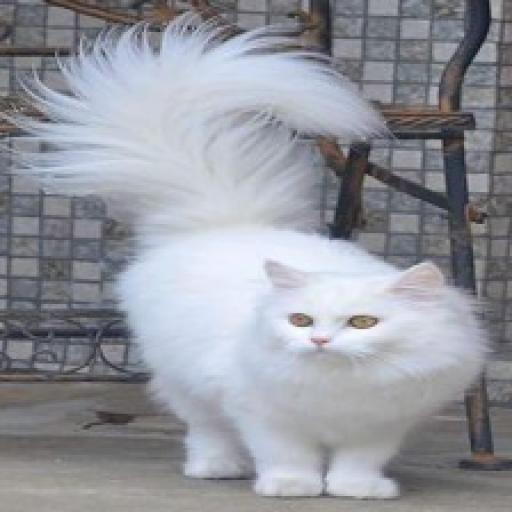cat: (0, 14, 494, 499)
